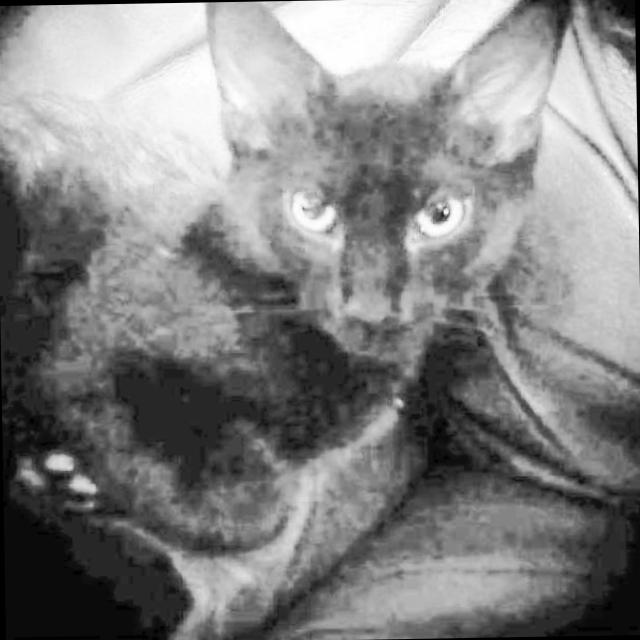Cat: (0, 0, 589, 555)
